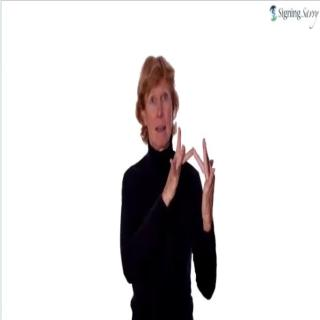Internet: (120, 51, 217, 319)
